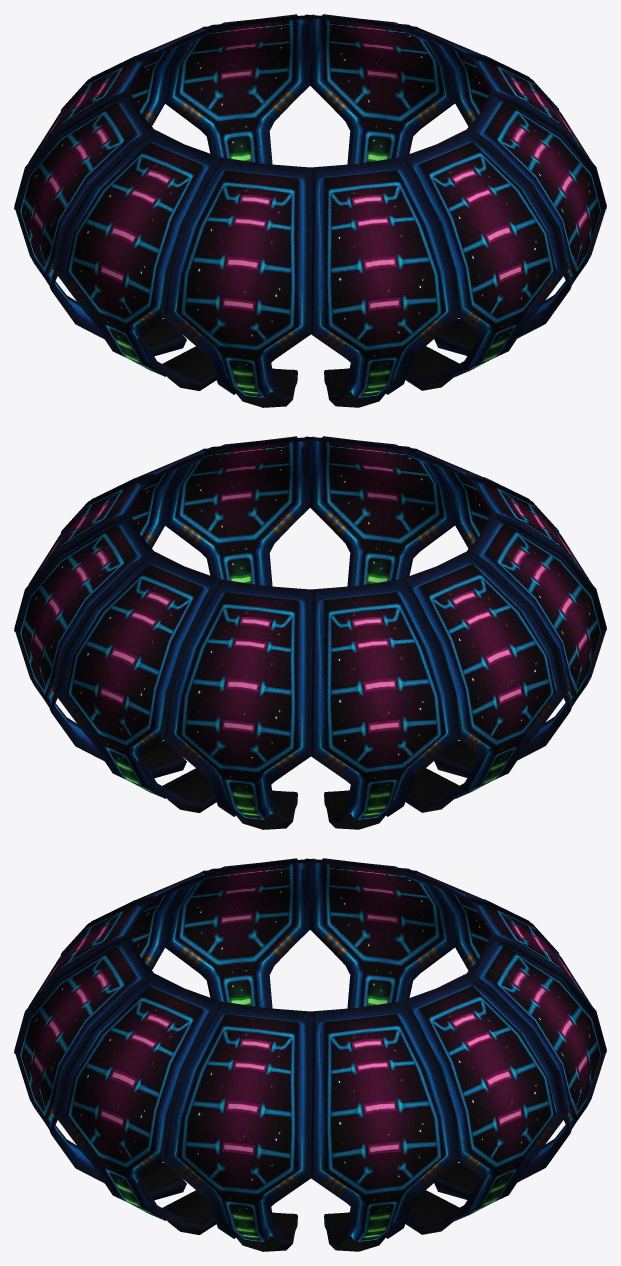
The model's file is CJ_WaiKuang.fbx.
3 renders of one model, top to bottom at view 1: azimuth 30°, elevation 25°; view 2: azimuth 150°, elevation 25°; view 3: azimuth 270°, elevation 25°, orthographic.
Visible parts, largest first — view 1: XYLS_newScene:gb2:gb2, XYLS_newScene:gb3:gb3, XYLS_newScene:gb1:gb1, XYLS_newScene:gb4:gb4, XYLS_newScene:gb8:gb8, XYLS_newScene:gb9:gb9, XYLS_newScene:gb:gb, XYLS_newScene:gb5:gb5, XYLS_newScene:gb11:gb11, XYLS_newScene:gb6:gb6, XYLS_newScene:gb7:gb7, XYLS_newScene:gb10:gb10; view 2: XYLS_newScene:gb10:gb10, XYLS_newScene:gb11:gb11, XYLS_newScene:gb9:gb9, XYLS_newScene:gb:gb, XYLS_newScene:gb4:gb4, XYLS_newScene:gb5:gb5, XYLS_newScene:gb8:gb8, XYLS_newScene:gb1:gb1, XYLS_newScene:gb7:gb7, XYLS_newScene:gb2:gb2, XYLS_newScene:gb3:gb3, XYLS_newScene:gb6:gb6; view 3: XYLS_newScene:gb6:gb6, XYLS_newScene:gb7:gb7, XYLS_newScene:gb5:gb5, XYLS_newScene:gb8:gb8, XYLS_newScene:gb:gb, XYLS_newScene:gb1:gb1, XYLS_newScene:gb4:gb4, XYLS_newScene:gb9:gb9, XYLS_newScene:gb3:gb3, XYLS_newScene:gb10:gb10, XYLS_newScene:gb11:gb11, XYLS_newScene:gb2:gb2.
Part boxes in pixels (left/top/right/bottom): XYLS_newScene:gb2:gb2: left=160, top=156, right=315, bottom=407; XYLS_newScene:gb3:gb3: left=306, top=156, right=461, bottom=407; XYLS_newScene:gb1:gb1: left=53, top=128, right=223, bottom=390; XYLS_newScene:gb4:gb4: left=398, top=128, right=568, bottom=390; XYLS_newScene:gb8:gb8: left=305, top=14, right=454, bottom=164; XYLS_newScene:gb9:gb9: left=165, top=14, right=314, bottom=164; XYLS_newScene:gb:gb: left=14, top=90, right=186, bottom=356; XYLS_newScene:gb5:gb5: left=434, top=89, right=606, bottom=355; XYLS_newScene:gb11:gb11: left=14, top=51, right=163, bottom=318; XYLS_newScene:gb6:gb6: left=458, top=51, right=606, bottom=317; XYLS_newScene:gb7:gb7: left=397, top=24, right=559, bottom=126; XYLS_newScene:gb10:gb10: left=60, top=24, right=222, bottom=126; XYLS_newScene:gb10:gb10: left=160, top=578, right=315, bottom=829; XYLS_newScene:gb11:gb11: left=306, top=578, right=461, bottom=829; XYLS_newScene:gb9:gb9: left=53, top=550, right=223, bottom=812; XYLS_newScene:gb:gb: left=398, top=550, right=568, bottom=812; XYLS_newScene:gb4:gb4: left=305, top=436, right=454, bottom=586; XYLS_newScene:gb5:gb5: left=165, top=436, right=314, bottom=586; XYLS_newScene:gb8:gb8: left=14, top=512, right=186, bottom=778; XYLS_newScene:gb1:gb1: left=434, top=511, right=606, bottom=777; XYLS_newScene:gb7:gb7: left=14, top=473, right=163, bottom=740; XYLS_newScene:gb2:gb2: left=458, top=473, right=606, bottom=739; XYLS_newScene:gb3:gb3: left=397, top=446, right=559, bottom=548; XYLS_newScene:gb6:gb6: left=60, top=446, right=222, bottom=548; XYLS_newScene:gb6:gb6: left=160, top=1000, right=315, bottom=1251; XYLS_newScene:gb7:gb7: left=306, top=1000, right=461, bottom=1251; XYLS_newScene:gb5:gb5: left=53, top=972, right=223, bottom=1234; XYLS_newScene:gb8:gb8: left=398, top=972, right=568, bottom=1234; XYLS_newScene:gb:gb: left=305, top=858, right=454, bottom=1008; XYLS_newScene:gb1:gb1: left=165, top=858, right=314, bottom=1008; XYLS_newScene:gb4:gb4: left=14, top=934, right=186, bottom=1200; XYLS_newScene:gb9:gb9: left=434, top=933, right=606, bottom=1199; XYLS_newScene:gb3:gb3: left=14, top=895, right=163, bottom=1162; XYLS_newScene:gb10:gb10: left=458, top=895, right=606, bottom=1161; XYLS_newScene:gb11:gb11: left=397, top=868, right=559, bottom=970; XYLS_newScene:gb2:gb2: left=60, top=868, right=222, bottom=970.
Bounding box in the file's own units: 14.45 × 6.48 × 14.45.
